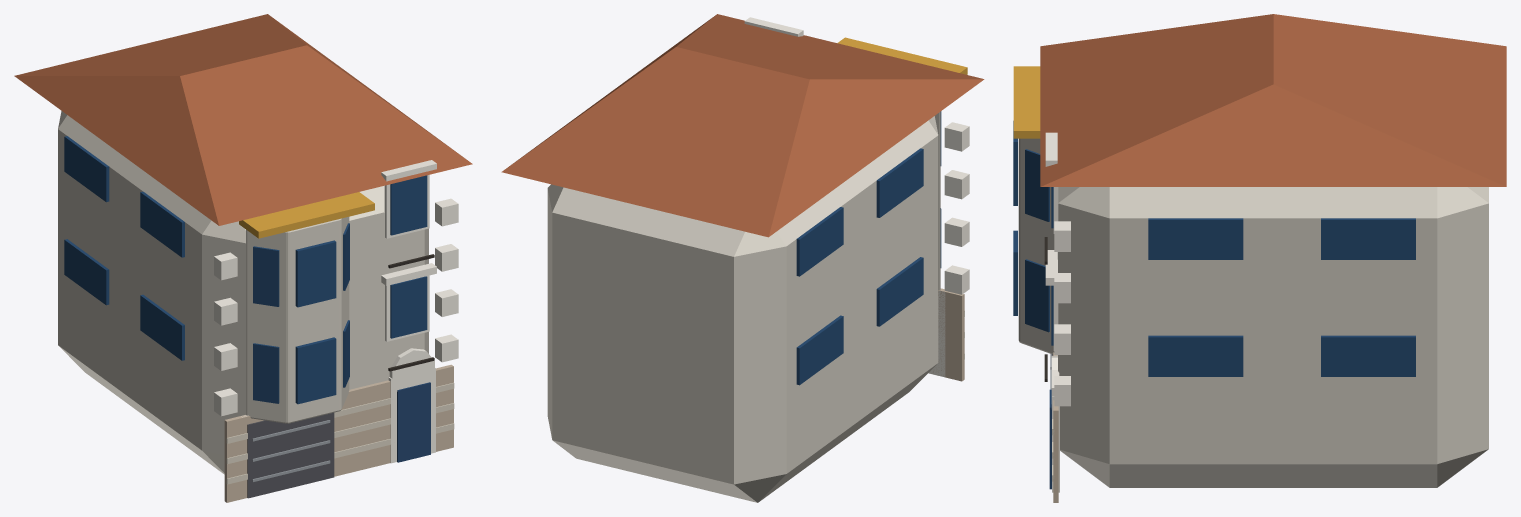
The model's file is marina_w7_hip.glb.
3 views of the same model, side by side, from view 1: azimuth 30°, elevation 25°; view 2: azimuth 150°, elevation 25°; view 3: azimuth 270°, elevation 25° (orthographic). The views are drawn at different scales.
Parts seen in each view (by area): view 1: hip, walls, bay, base, gdoor, scallop, edoor, bw.001, bw, wgl, wgl.001, sb.002 (+22 smaller); view 2: walls, hip, sb, sb.002, sb.004, sb.006, base, scallop, gfr, quoin, quoin.001, quoin.002 (+2 smaller); view 3: walls, hip, sb.005, sb.001, sb.003, sb.007, bay, scallop, bwa.001, bwa.003, base.
Part boxes in pixels (bbox=[...]): hip: bbox=[14, 14, 472, 225]; walls: bbox=[58, 111, 428, 474]; bay: bbox=[246, 216, 349, 423]; base: bbox=[224, 364, 453, 502]; gdoor: bbox=[247, 412, 334, 498]; scallop: bbox=[239, 192, 374, 238]; edoor: bbox=[397, 382, 430, 462]; bw.001: bbox=[295, 240, 336, 307]; bw: bbox=[295, 337, 336, 404]; wgl: bbox=[390, 276, 427, 338]; wgl.001: bbox=[390, 175, 427, 235]; sb.002: bbox=[64, 239, 109, 305]; walls: bbox=[547, 116, 938, 502]; hip: bbox=[501, 14, 984, 237]; sb: bbox=[876, 257, 923, 326]; sb.002: bbox=[796, 315, 843, 385]; sb.004: bbox=[876, 148, 923, 217]; sb.006: bbox=[796, 207, 843, 276]; base: bbox=[929, 288, 964, 381]; scallop: bbox=[837, 37, 967, 74]; gfr: bbox=[929, 290, 945, 377]; quoin: bbox=[944, 265, 969, 294]; quoin.001: bbox=[944, 217, 969, 246]; quoin.002: bbox=[944, 170, 969, 199]; walls: bbox=[1058, 187, 1488, 487]; hip: bbox=[1040, 14, 1506, 186]; sb.005: bbox=[1148, 218, 1243, 259]; sb.001: bbox=[1148, 335, 1243, 376]; sb.003: bbox=[1321, 335, 1415, 376]; sb.007: bbox=[1321, 218, 1415, 259]; bay: bbox=[1018, 138, 1057, 354]; scallop: bbox=[1013, 66, 1040, 138]; bwa.001: bbox=[1025, 259, 1049, 332]; bwa.003: bbox=[1025, 149, 1049, 221]; base: bbox=[1053, 352, 1058, 502].
Bounding box in the file's own units: 8.5 × 11 × 12.59.
